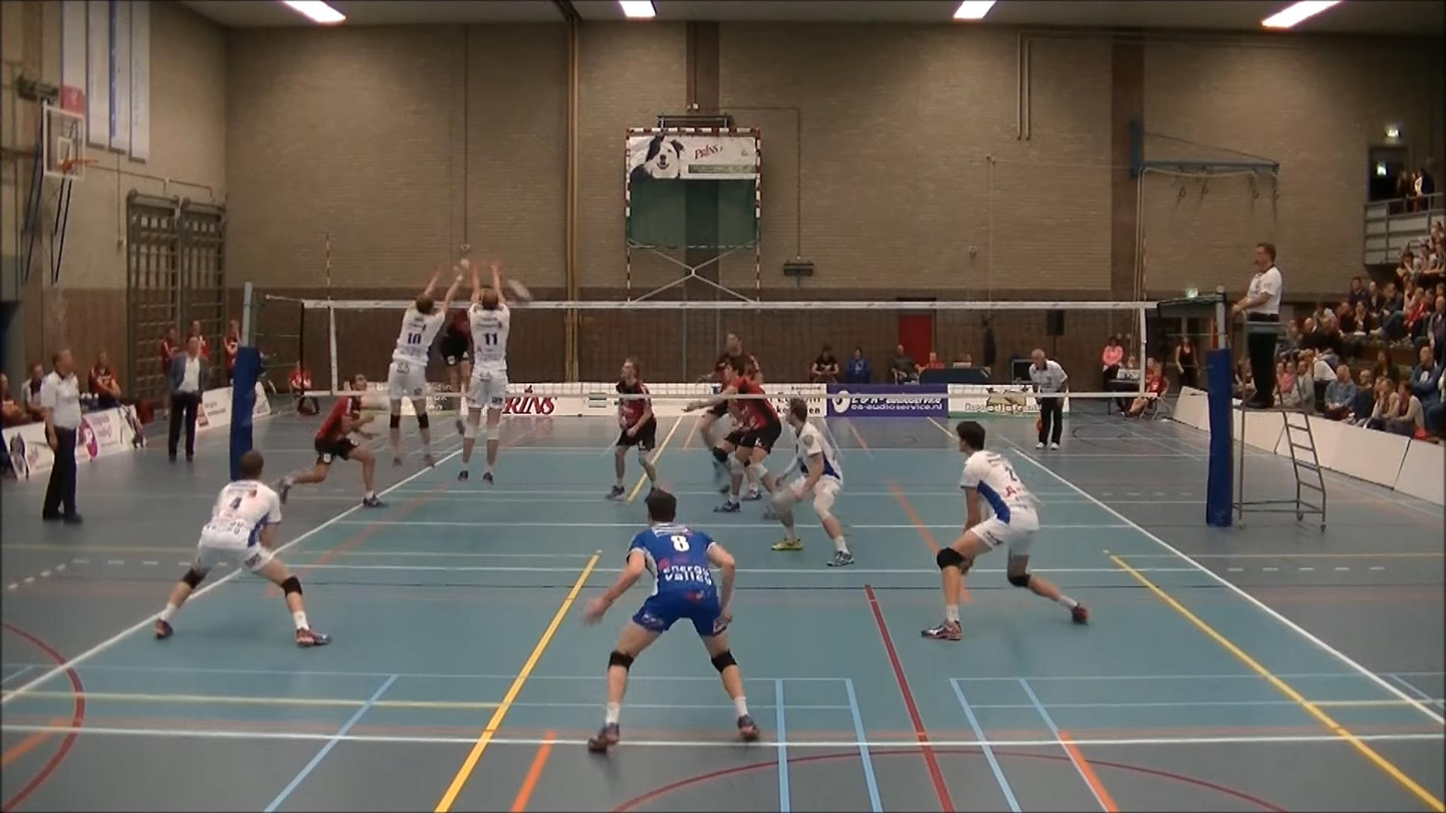Block: (385, 260, 464, 455), (457, 260, 522, 435)
Player: (584, 490, 758, 751), (921, 422, 1088, 640), (154, 449, 329, 647), (685, 358, 781, 512), (278, 375, 383, 507), (772, 398, 853, 566), (609, 358, 657, 498), (438, 308, 471, 434), (712, 333, 761, 387)
ball: (498, 275, 537, 304)
